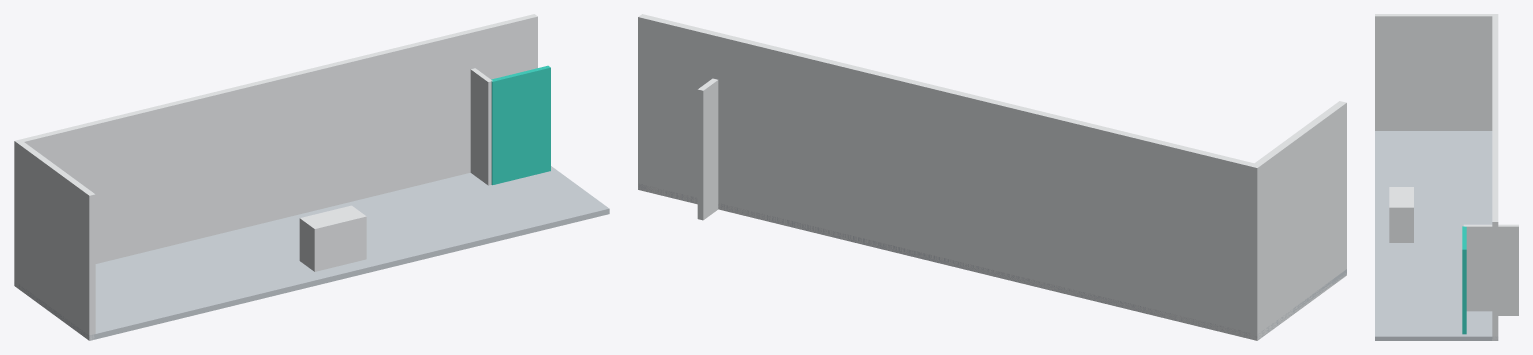
3 renders of one model, left to right at view 1: azimuth 30°, elevation 25°; view 2: azimuth 150°, elevation 25°; view 3: azimuth 270°, elevation 25°, orthographic. The views are drawn at different scales.
Visible parts, largest first — view 1: Exhibition Booth Concept; view 2: Exhibition Booth Concept; view 3: Exhibition Booth Concept.
Boxes of the visible parts, x1,y1,x2,y2 form: Exhibition Booth Concept: (14,14,609,340); Exhibition Booth Concept: (638,14,1346,340); Exhibition Booth Concept: (1375,14,1518,340).
Size of the model in its own units: 12 by 3.2 by 3.51.
